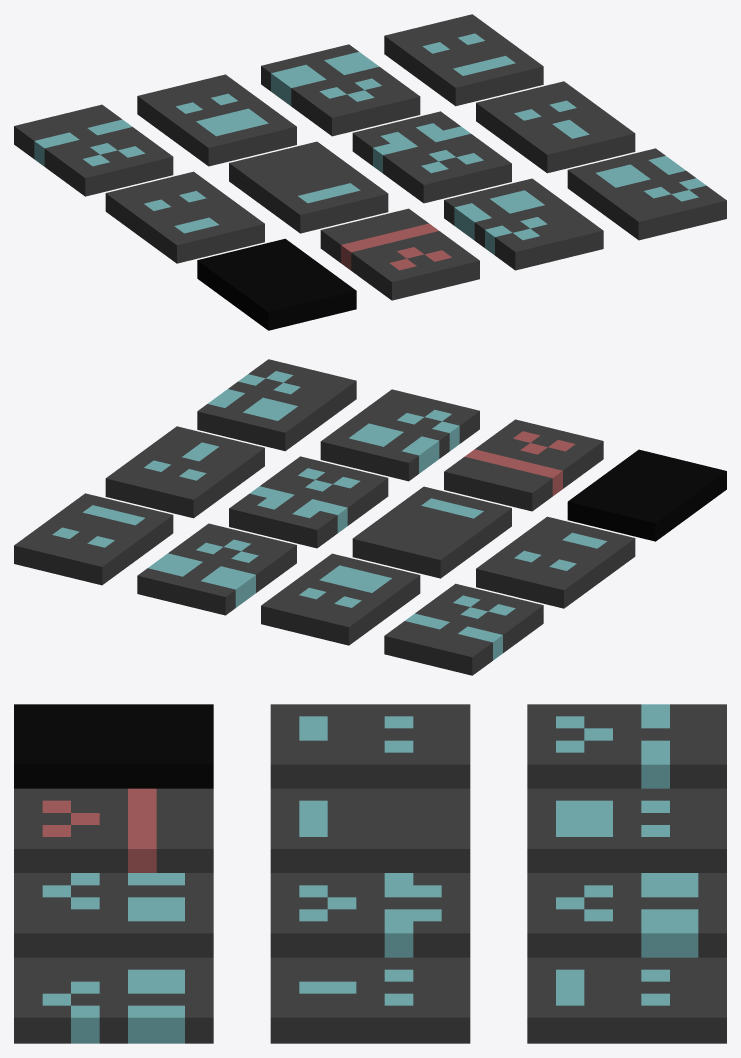
Rendered from eddy.gltf.
3 renders of one model, top to bottom at view 1: azimuth 30°, elevation 25°; view 2: azimuth 150°, elevation 25°; view 3: azimuth 270°, elevation 25°, orthographic. The views are drawn at different scales.
Parts seen in each view (by area): view 1: Layer.3, Layer.10, Layer.1, Layer.6, Layer.7, Layer.12, Layer.2, Layer.5, Layer.8, Layer.11, Layer.4, Layer.9; view 2: Layer.2, Layer.11, Layer.4, Layer.6, Layer.7, Layer.9, Layer.3, Layer.5, Layer.8, Layer.10, Layer.1, Layer.12; view 3: Layer.8, Layer.4, Layer.12, Layer.5, Layer.7, Layer.6, Layer.1, Layer.2, Layer.3, Layer.9, Layer.10, Layer.11.
Boxes of the visible parts, left/top/right/bottom form: Layer.3: left=261, top=44, right=420, bottom=136; Layer.10: left=320, top=208, right=479, bottom=300; Layer.1: left=14, top=104, right=173, bottom=196; Layer.6: left=229, top=141, right=388, bottom=233; Layer.7: left=352, top=111, right=511, bottom=203; Layer.12: left=567, top=148, right=726, bottom=240; Layer.2: left=137, top=74, right=296, bottom=166; Layer.5: left=105, top=171, right=264, bottom=263; Layer.8: left=476, top=81, right=635, bottom=173; Layer.11: left=444, top=178, right=603, bottom=270; Layer.4: left=384, top=14, right=543, bottom=106; Layer.9: left=197, top=238, right=356, bottom=330; Layer.2: left=261, top=553, right=420, bottom=645; Layer.11: left=320, top=389, right=479, bottom=481; Layer.4: left=14, top=493, right=173, bottom=585; Layer.6: left=352, top=486, right=511, bottom=578; Layer.7: left=229, top=456, right=388, bottom=548; Layer.9: left=567, top=449, right=726, bottom=541; Layer.3: left=137, top=523, right=296, bottom=615; Layer.5: left=476, top=516, right=635, bottom=608; Layer.8: left=105, top=426, right=264, bottom=518; Layer.10: left=444, top=419, right=603, bottom=511; Layer.1: left=384, top=583, right=543, bottom=675; Layer.12: left=197, top=359, right=356, bottom=451; Layer.8: left=270, top=957, right=470, bottom=1043; Layer.4: left=527, top=957, right=726, bottom=1043; Layer.12: left=14, top=957, right=213, bottom=1043; Layer.5: left=270, top=704, right=470, bottom=788; Layer.7: left=270, top=873, right=470, bottom=957; Layer.6: left=270, top=788, right=470, bottom=872; Layer.1: left=527, top=704, right=726, bottom=788; Layer.2: left=527, top=788, right=726, bottom=872; Layer.3: left=527, top=873, right=726, bottom=957; Layer.9: left=14, top=704, right=213, bottom=788; Layer.10: left=14, top=788, right=213, bottom=872; Layer.11: left=14, top=873, right=213, bottom=957.
Size of the model in its own units: 26 by 1 by 25.
Materials: 1 (1 with a texture image).
